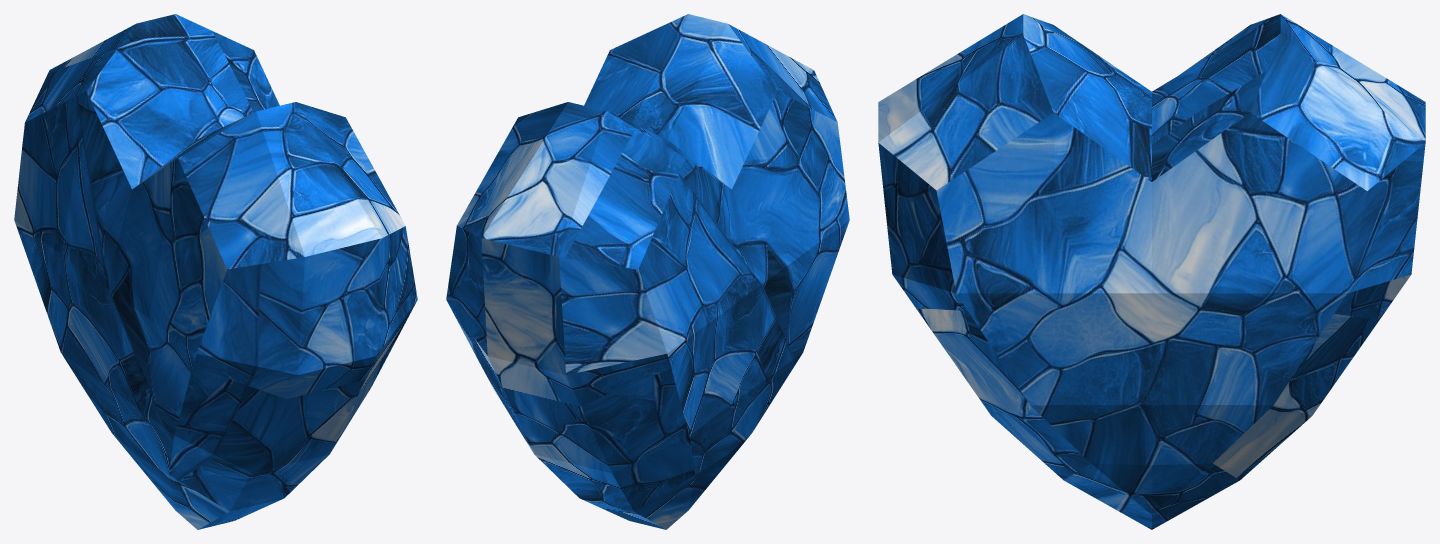
Rendered from gemstone1BlueCompressed.glb.
3 renders of one model, left to right at view 1: azimuth 30°, elevation 25°; view 2: azimuth 150°, elevation 25°; view 3: azimuth 270°, elevation 25°, orthographic. The views are drawn at different scales.
Parts seen in each view (by area): view 1: geamstoneHeart; view 2: geamstoneHeart; view 3: geamstoneHeart.
Part boxes in pixels (x1=…): geamstoneHeart: x1=14, y1=14, x2=417, y2=529; geamstoneHeart: x1=446, y1=14, x2=849, y2=529; geamstoneHeart: x1=878, y1=14, x2=1425, y2=529.
Size of the model in its own units: 0.5 by 1 by 1.
Materials: 1 (1 with a texture image).
